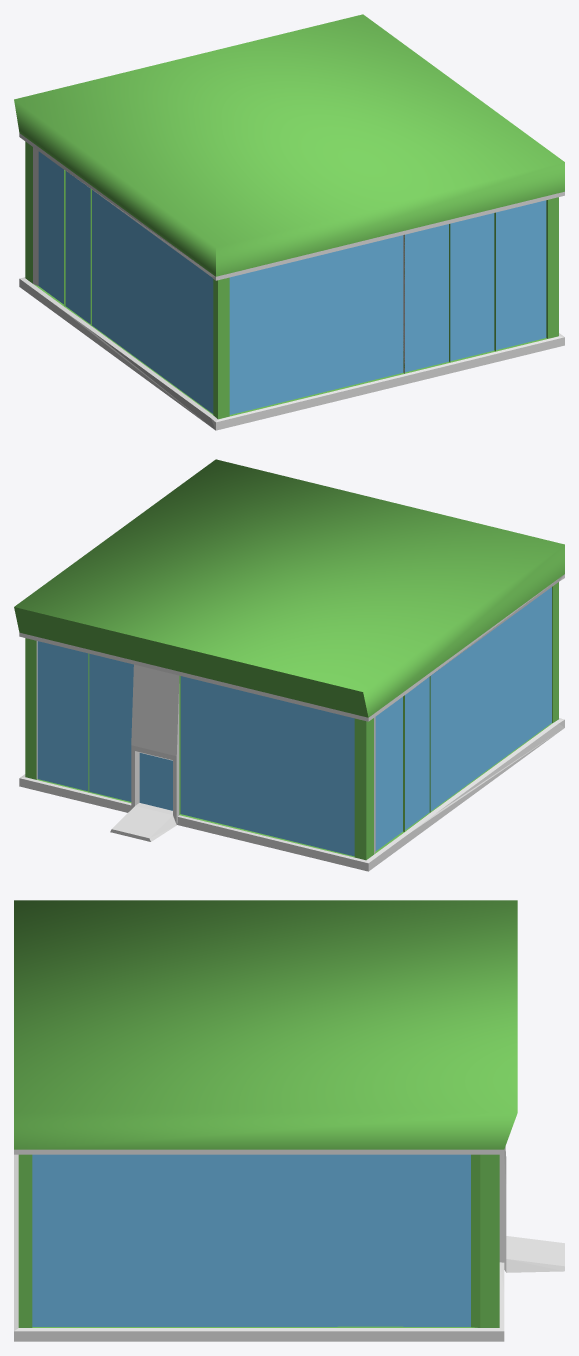
Rendered from Shop8x8x4Green.fbx.
3 views of the same model, one above another, from view 1: azimuth 30°, elevation 25°; view 2: azimuth 150°, elevation 25°; view 3: azimuth 270°, elevation 25° (orthographic). The views are drawn at different scales.
Visible parts, largest first — view 1: Shop.001; view 2: Shop.001; view 3: Shop.001.
Part boxes in pixels (x1,y1,x2,y2): Shop.001: (14,14,564,430); Shop.001: (14,459,564,871); Shop.001: (14,900,564,1341).
Bounding box in the file's own units: 7.96 × 4 × 8.72.
Materials: 1 (1 with a texture image).
